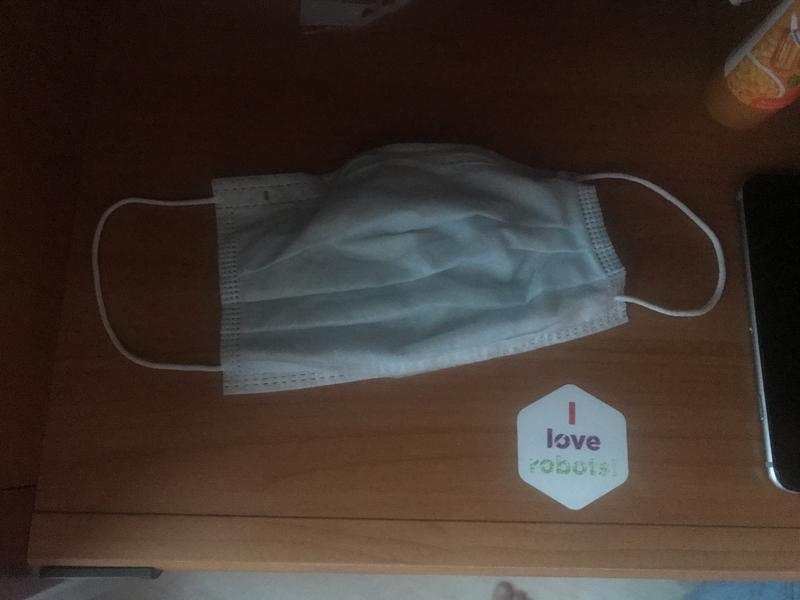medical_mask: (81, 141, 726, 395)
